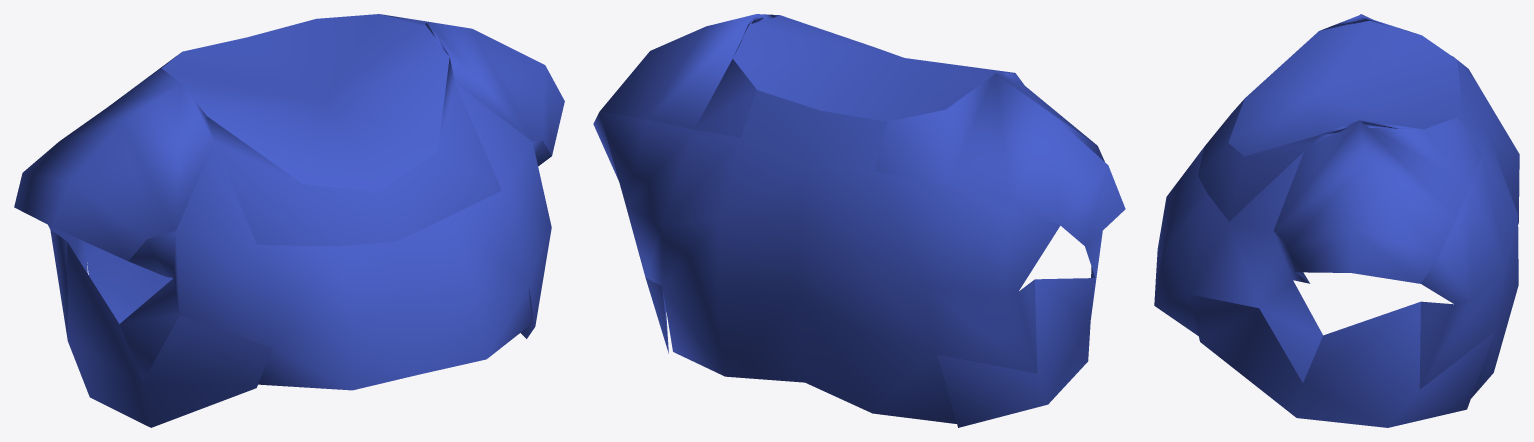
Rendered from spine2.glb.
3 renders of one model, left to right at view 1: azimuth 30°, elevation 25°; view 2: azimuth 150°, elevation 25°; view 3: azimuth 270°, elevation 25°, orthographic. The views are drawn at different scales.
Parts seen in each view (by area): view 1: sweater-blue_SPINE2; view 2: sweater-blue_SPINE2; view 3: sweater-blue_SPINE2.
Part boxes in pixels (x1,y1,x2,y2): sweater-blue_SPINE2: (14,14,564,427); sweater-blue_SPINE2: (593,14,1125,427); sweater-blue_SPINE2: (1154,14,1519,427).
Bounding box in the file's own units: 0.4746 × 0.2791 × 0.3328.
1 material, 1 textured.
